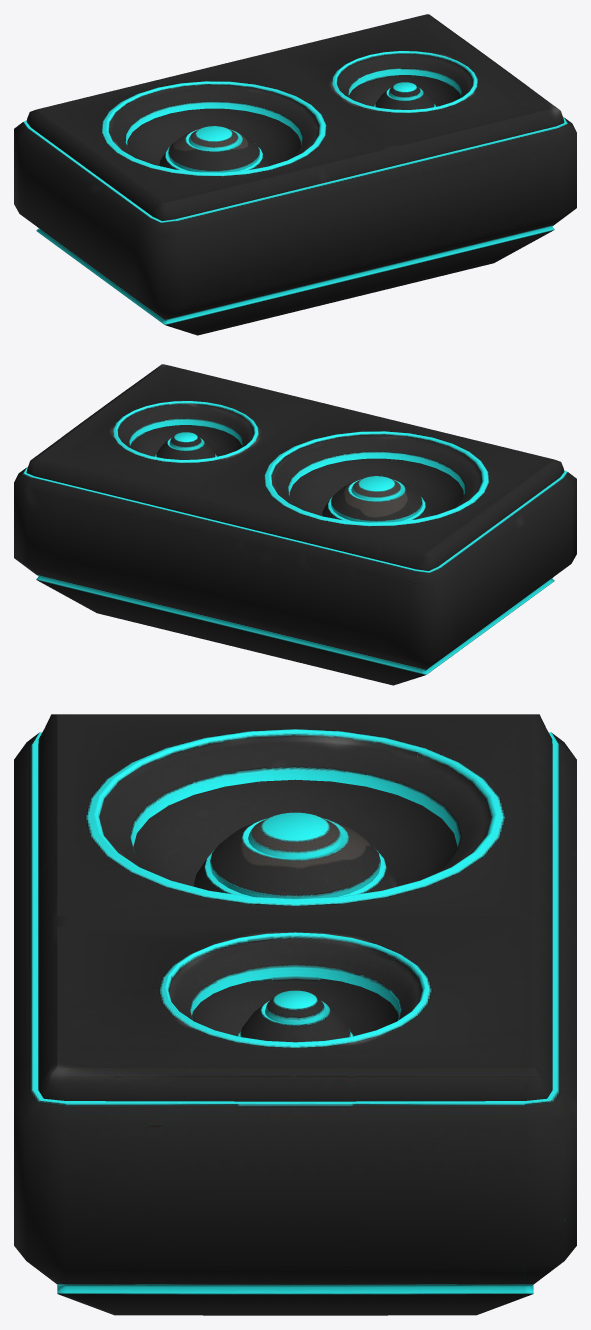
File: speaker.glb
3 views of the same model, one above another, from view 1: azimuth 30°, elevation 25°; view 2: azimuth 150°, elevation 25°; view 3: azimuth 270°, elevation 25° (orthographic). The views are drawn at different scales.
Parts seen in each view (by area): view 1: Sphere001; view 2: Sphere001; view 3: Sphere001.
Part boxes in pixels (box(x1,y1,x2,y2)): Sphere001: box(14, 14, 576, 335); Sphere001: box(14, 364, 576, 685); Sphere001: box(14, 714, 576, 1315).
Size of the model in its own units: 2 by 0.6955 by 1.22.
Materials: 1 (1 with a texture image).
